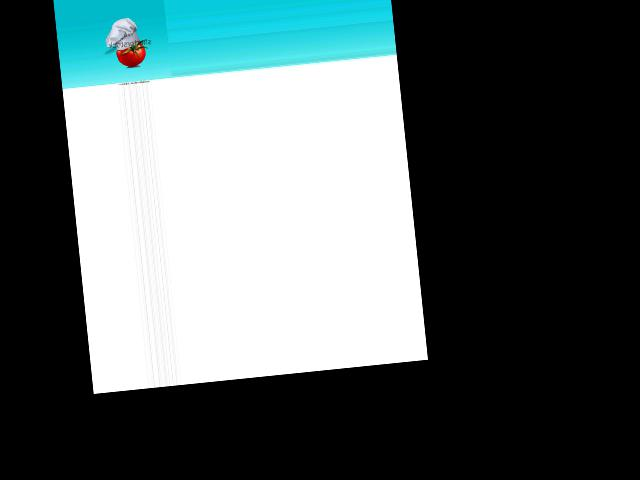tomato: (115, 40, 145, 67)
